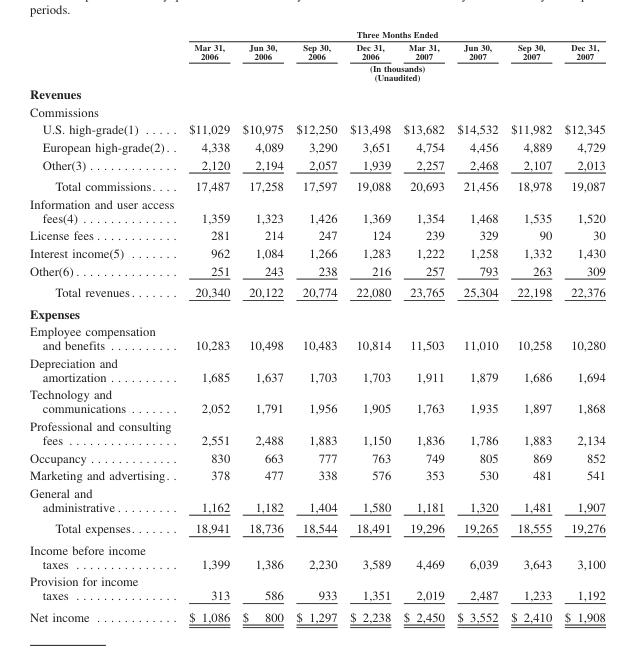table: (29, 28, 604, 623)
table column: (29, 28, 180, 623), (180, 28, 235, 623), (235, 28, 289, 623), (342, 28, 396, 623), (396, 28, 450, 623), (503, 28, 557, 623), (289, 28, 342, 623), (450, 28, 503, 623), (557, 28, 604, 623)
table column header: (29, 28, 604, 84)
table projected row header: (29, 302, 604, 322), (29, 84, 604, 102), (29, 102, 604, 120)
table row: (29, 483, 604, 517), (29, 538, 604, 572), (29, 572, 604, 605), (29, 194, 604, 226), (29, 353, 604, 385), (29, 416, 604, 448), (29, 322, 604, 353), (29, 385, 604, 416), (29, 61, 604, 84), (29, 40, 604, 61), (29, 281, 604, 302), (29, 517, 604, 538), (29, 155, 604, 175), (29, 261, 604, 281), (29, 302, 604, 322), (29, 175, 604, 194), (29, 84, 604, 102), (29, 102, 604, 120), (29, 137, 604, 155), (29, 243, 604, 261), (29, 448, 604, 466), (29, 605, 604, 623), (29, 120, 604, 137), (29, 226, 604, 243), (29, 466, 604, 483), (29, 28, 604, 40)
table spanning cell: (180, 61, 604, 84), (180, 28, 604, 40)
